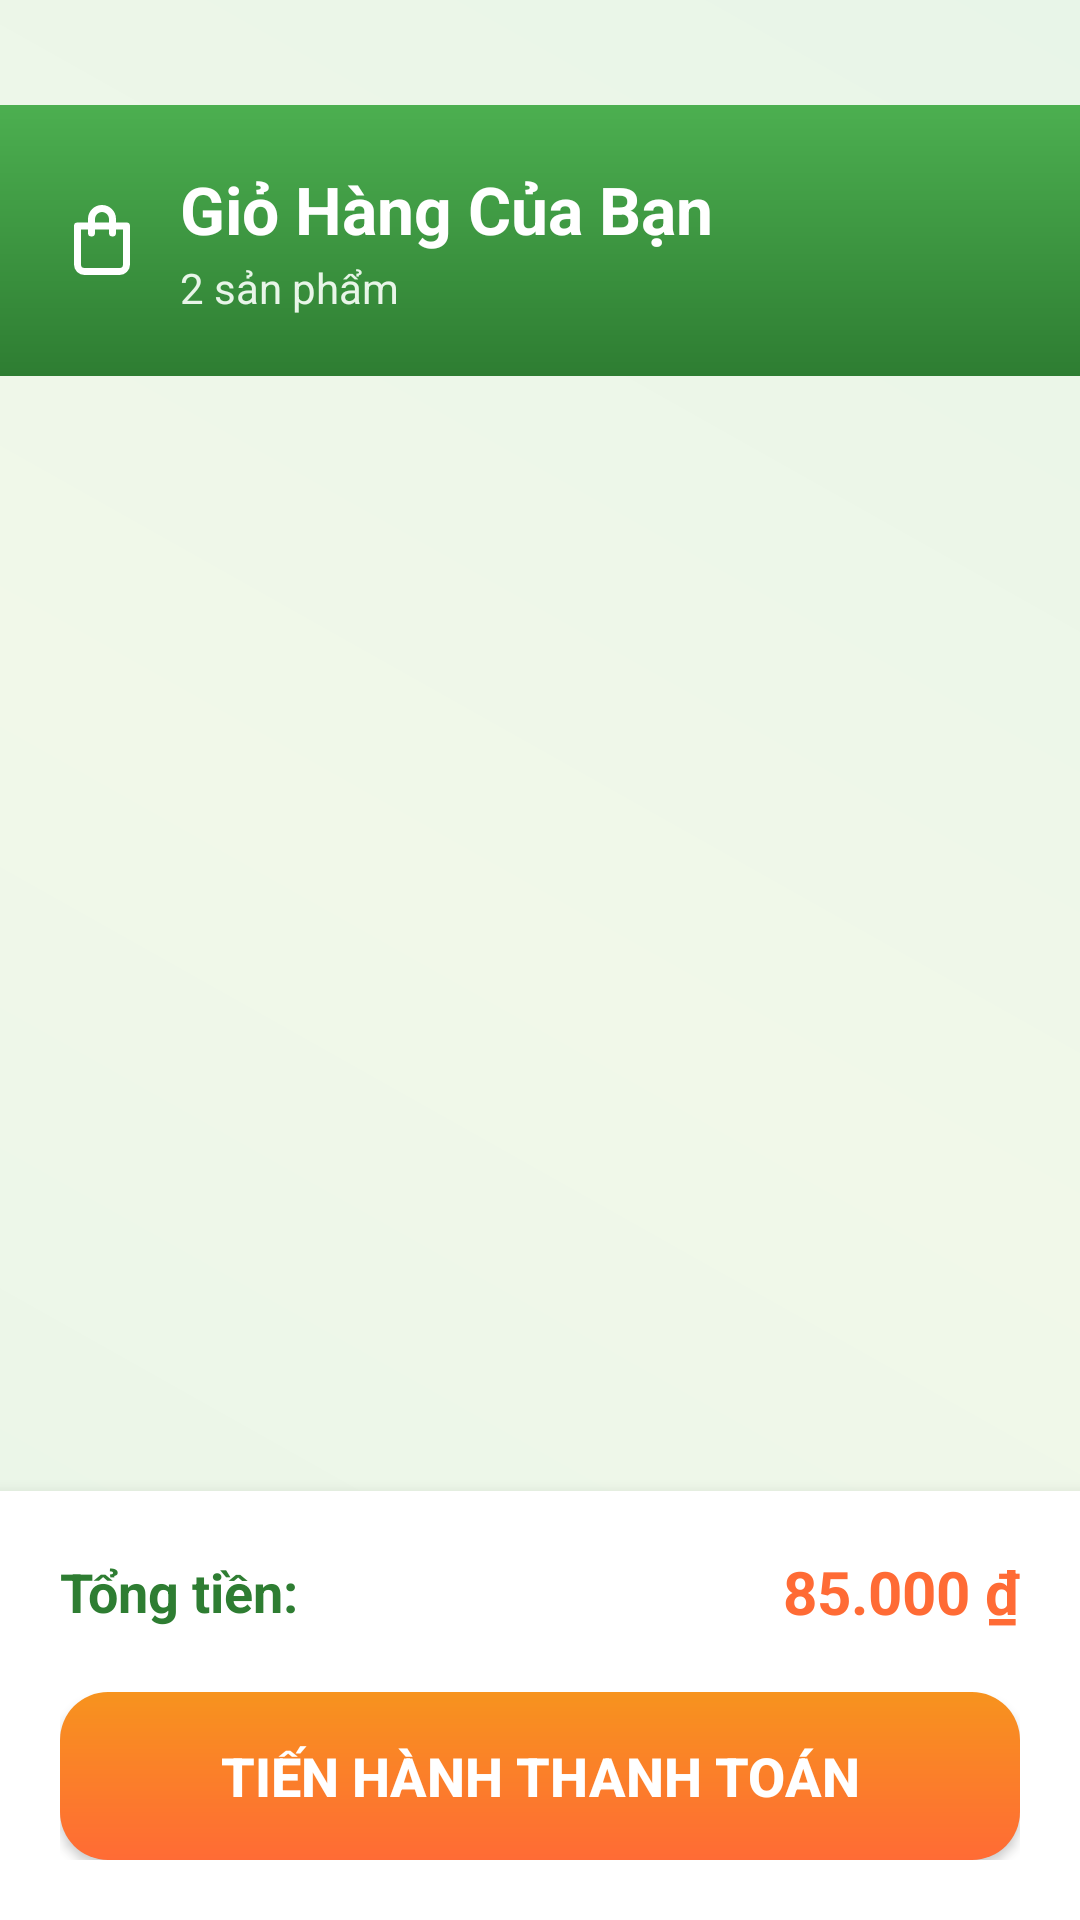

Icons on this 1080*1920 Android screen, each with the point to tap as (x,y):
shopping bag: (102,240)
